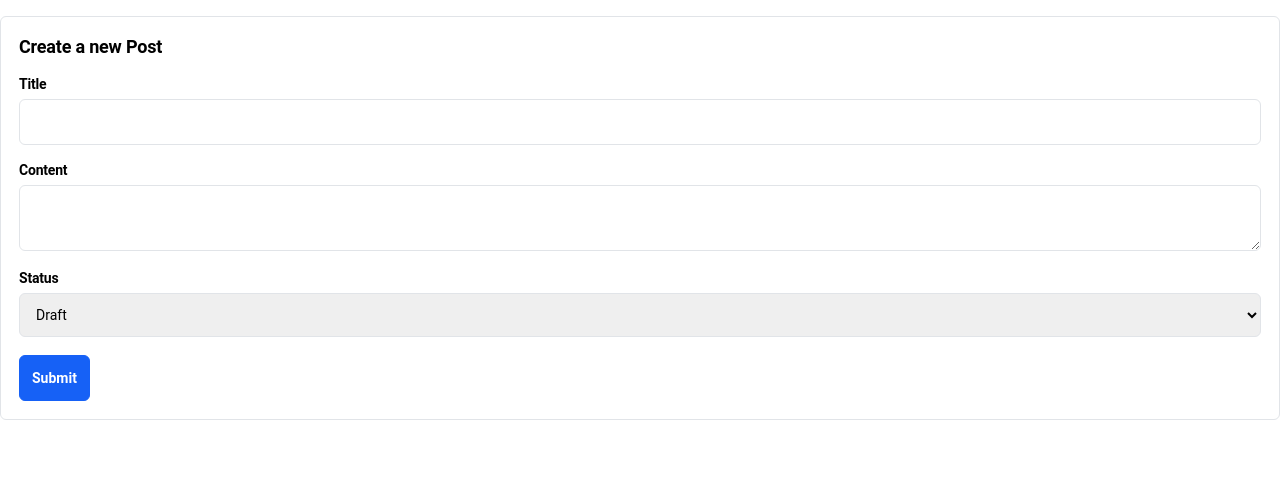
Test: PostCreate › should display the alert danger message when empty content
Type "My title" into the field with test id "title-input". click: (640, 122)
box: [19,99,1261,145]
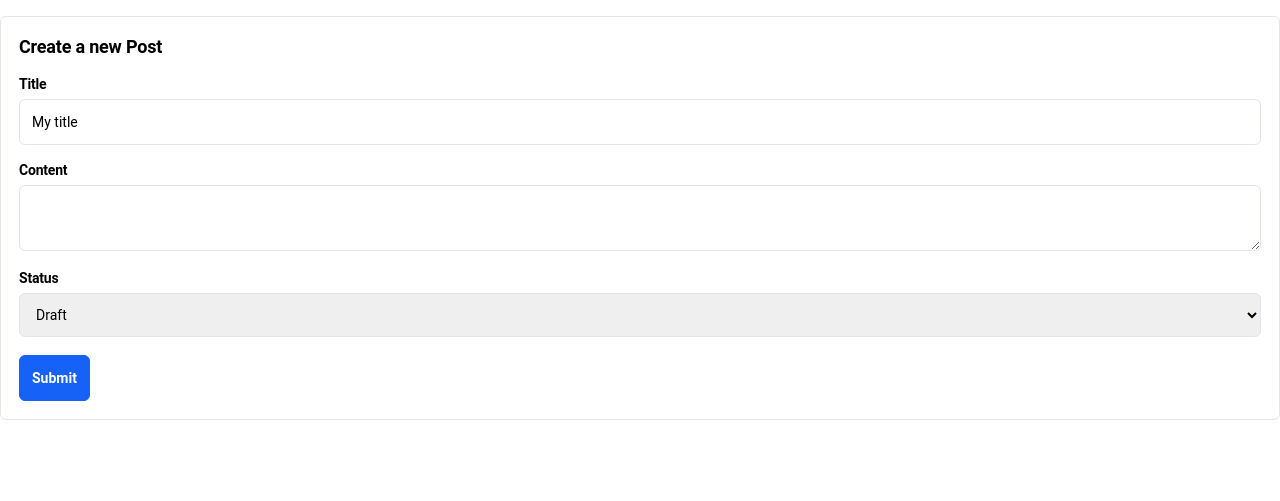
Click the button with test id "submit-button". click: click(54, 378)
box: [19,355,90,401]
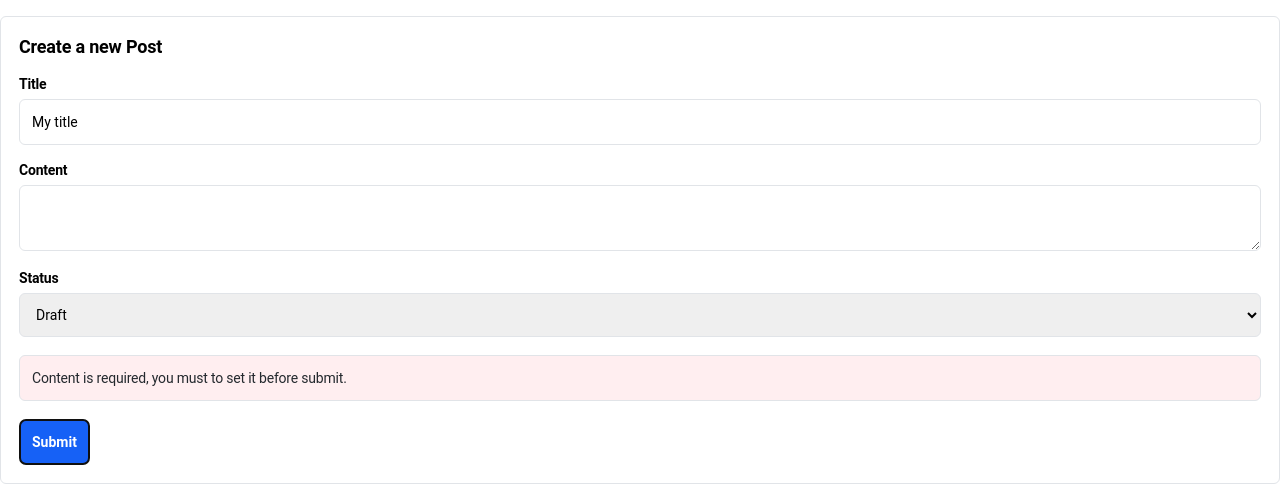
Expected: the text "Content is required, you must to set it before submit." is shown, [19,355,1261,401]
Expected: the text with test id "alert-message" reads "Content is required, you must to set it before submit.", [32,370,347,386]
